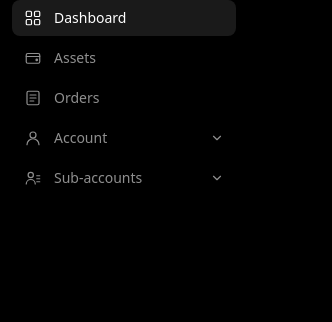
Test: Sidebar › keeps Account collapsed outside the account pages, and toggles on click
Expected: the link "Security" is not shown
Click the button "Account": (124, 138) x1=12 y1=120 x2=236 y2=156
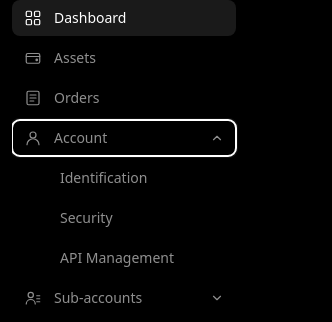
Now the link "Security" is shown, box x1=60 y1=208 x2=112 y2=227
Click the button "Account": (124, 138) x1=12 y1=120 x2=236 y2=156
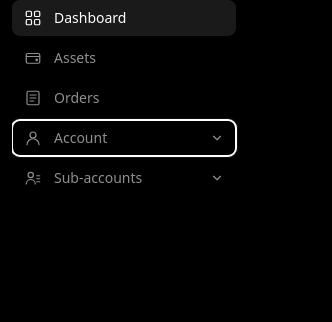
Now the link "Security" is gone
